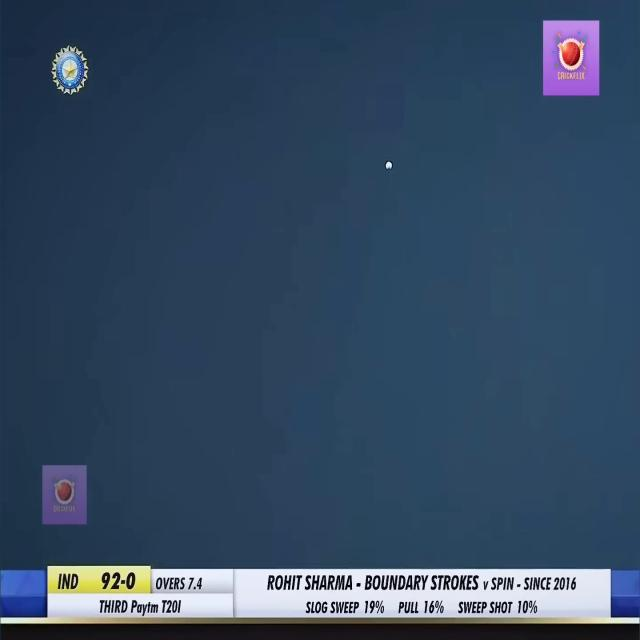fully_visible: (130, 594, 163, 620)
